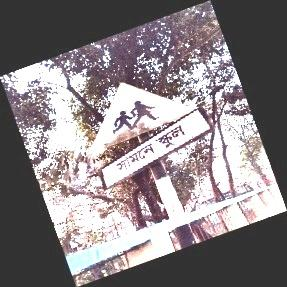School-in-front: (85, 79, 215, 186)
